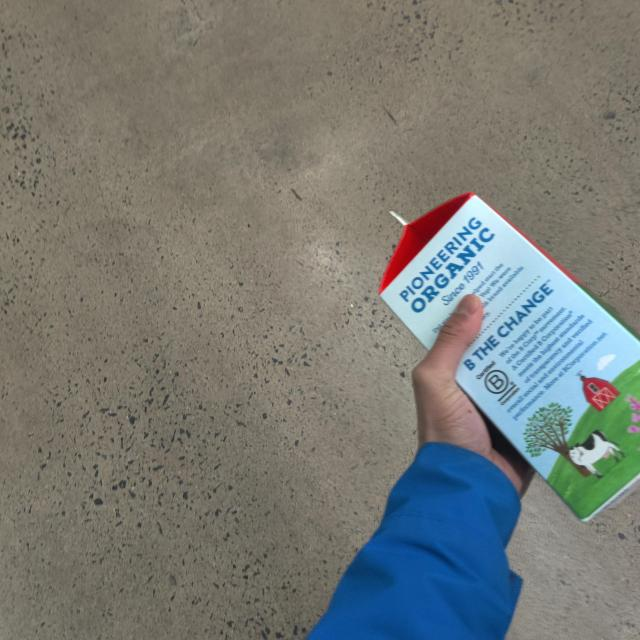Milk: (380, 194, 640, 527)
